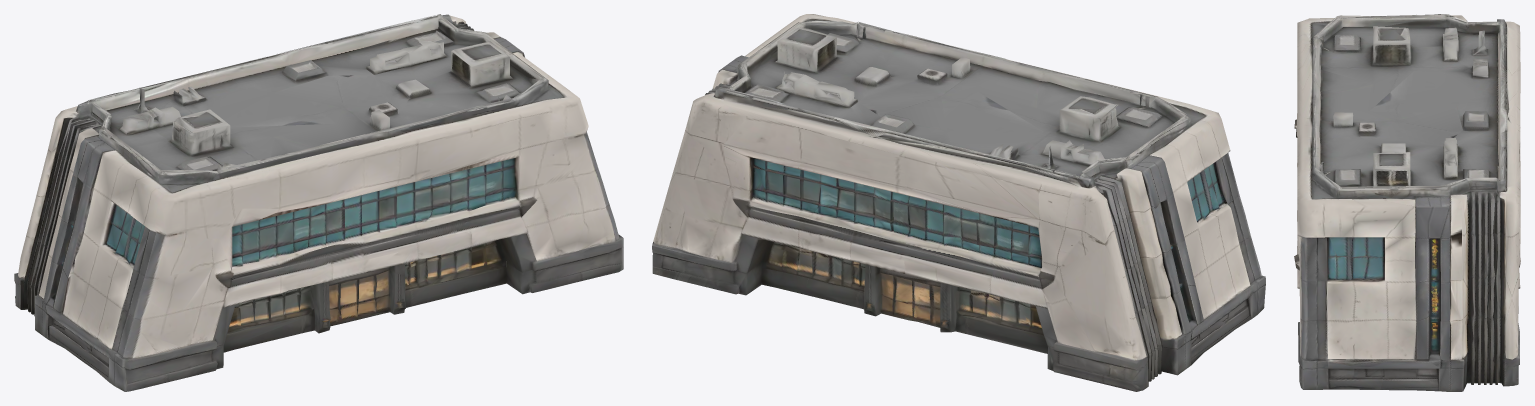
Rendered from facetedWing.glb.
3 renders of one model, left to right at view 1: azimuth 30°, elevation 25°; view 2: azimuth 150°, elevation 25°; view 3: azimuth 270°, elevation 25°, orthographic. The views are drawn at different scales.
Visible parts, largest first — view 1: facetedWing; view 2: facetedWing; view 3: facetedWing.
Boxes of the visible parts, x1,y1,x2,y2 form: facetedWing: (14, 14, 623, 391); facetedWing: (652, 14, 1265, 391); facetedWing: (1294, 14, 1520, 391).
Bounding box in the file's own units: 40 × 15.69 × 16.94.
Materials: 1 (1 with a texture image).
